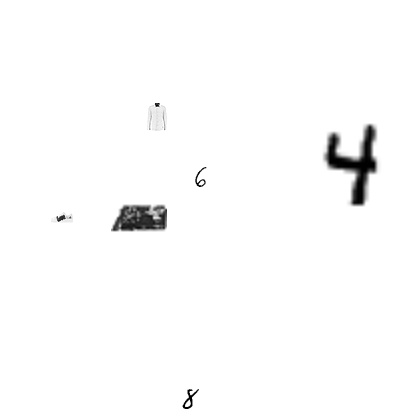4: (296, 105, 408, 217)
6: (186, 165, 214, 193)
8: (175, 385, 203, 413)
Bag: (111, 189, 167, 245)
Shirt: (143, 103, 171, 131)
Sneaker: (51, 206, 73, 228)
